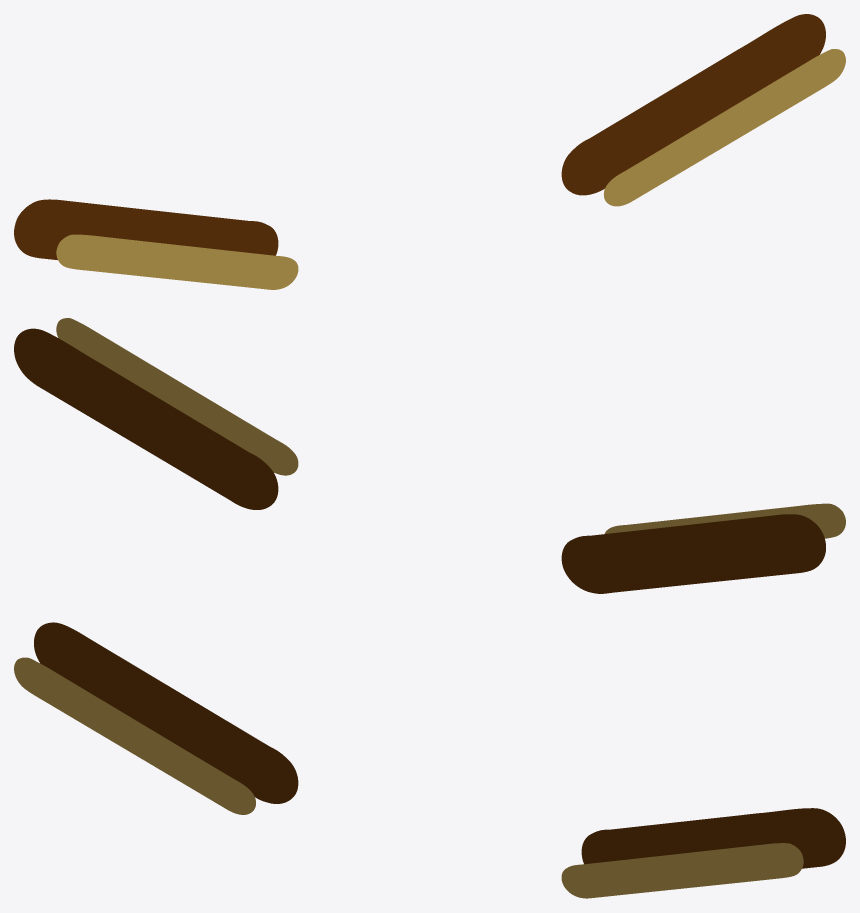
File: 085_eyebrow.gltf
3 views of the same model, one above another, from view 1: azimuth 30°, elevation 25°; view 2: azimuth 150°, elevation 25°; view 3: azimuth 330°, elevation 25° (orthographic).
Parts seen in each view (by area): view 1: Curve.001, Curve, Curve.003, Curve.002; view 2: Curve, Curve.001, Curve.003, Curve.002; view 3: Curve, Curve.001, Curve.003, Curve.002.
Boxes of the visible parts, x1,y1,x2,y2 form: Curve.001: (561, 14, 825, 195); Curve: (14, 199, 278, 259); Curve.003: (603, 49, 845, 206); Curve.002: (56, 234, 298, 289); Curve: (561, 514, 825, 593); Curve.001: (14, 328, 278, 509); Curve.003: (56, 318, 298, 475); Curve.002: (604, 503, 845, 538); Curve: (34, 622, 298, 803); Curve.001: (581, 808, 845, 868); Curve.003: (561, 843, 803, 898); Curve.002: (14, 657, 255, 814).
Size of the model in its own units: 0.1506 by 0.0228 by 0.01.
